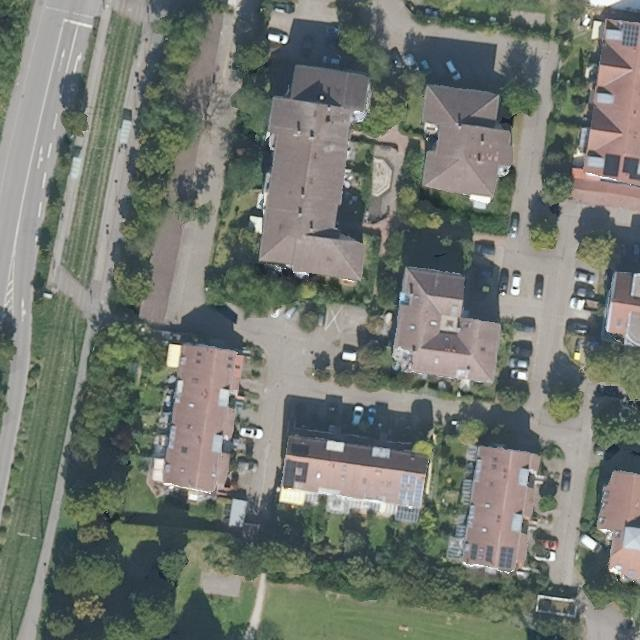PV: (397, 472, 426, 510), (619, 21, 640, 50), (496, 545, 516, 574)
